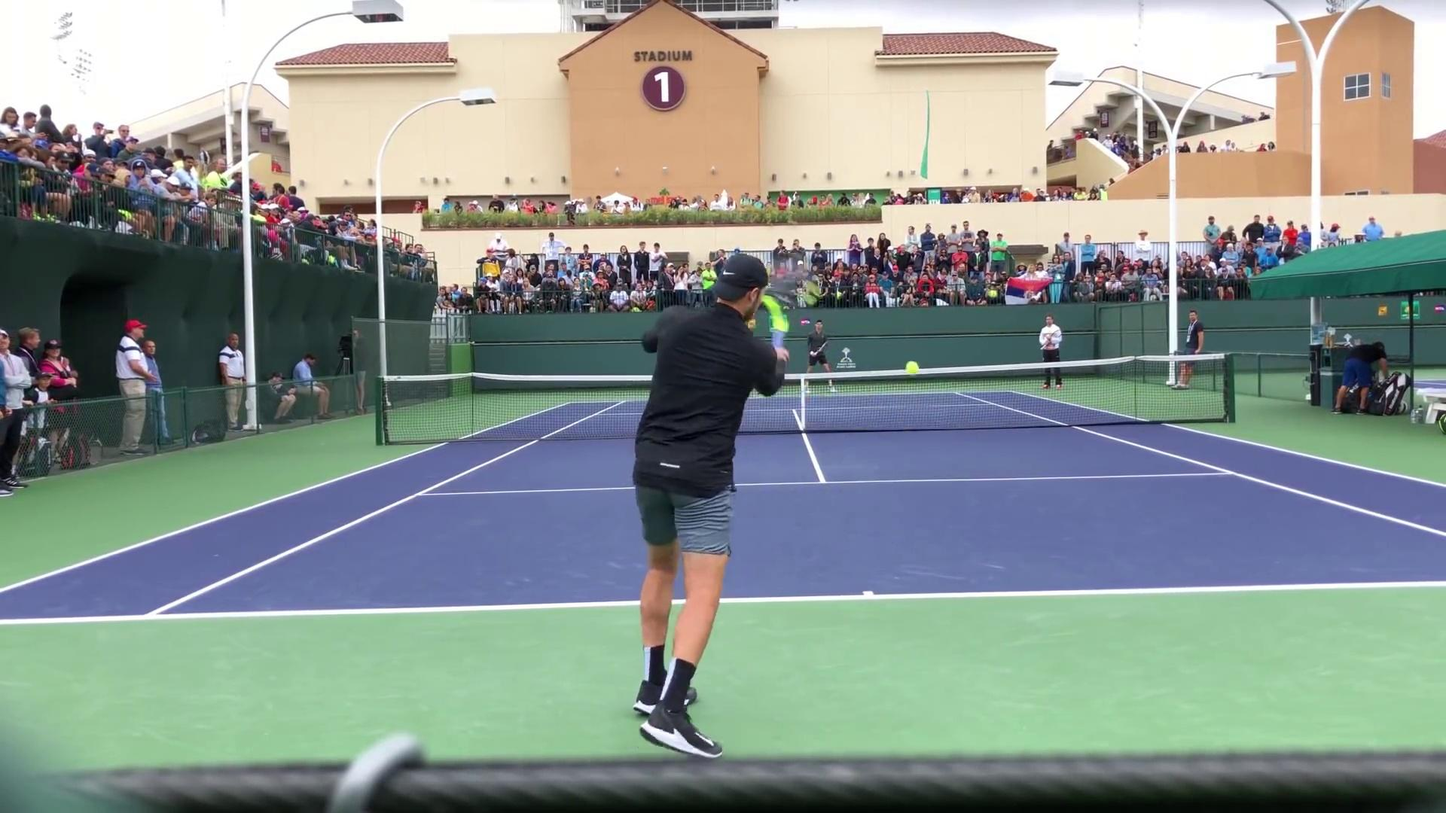ball: (904, 362, 921, 375)
